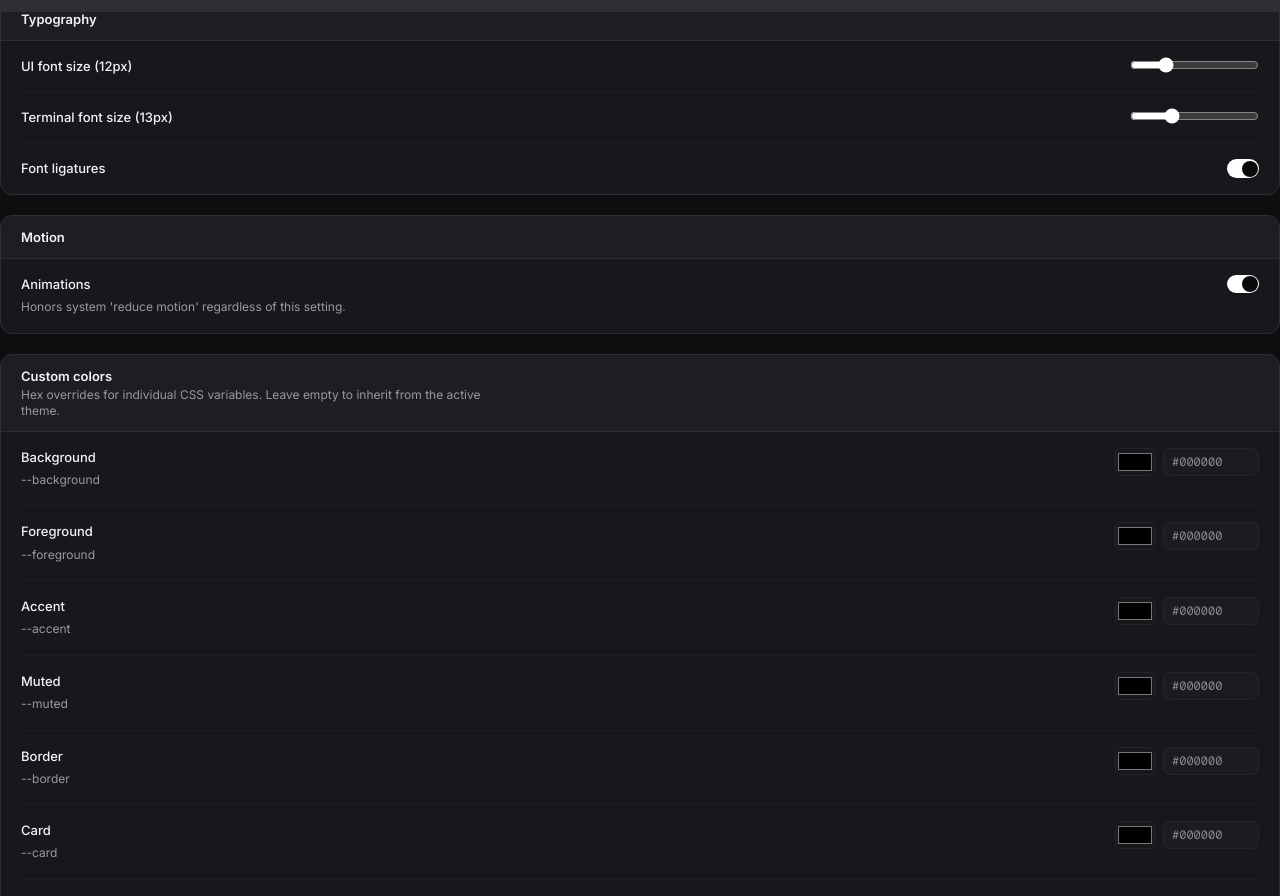
AppearanceSettings › per-color Reset button clears that color value
The image size is (1280, 896).
(page scrolled)
Set a color first so the inline Reset button appears
Type "#112233" into the colour field with test id "color-appearance.customColors.background" at coordinates (1135, 462), box [1115,448,1155,476]
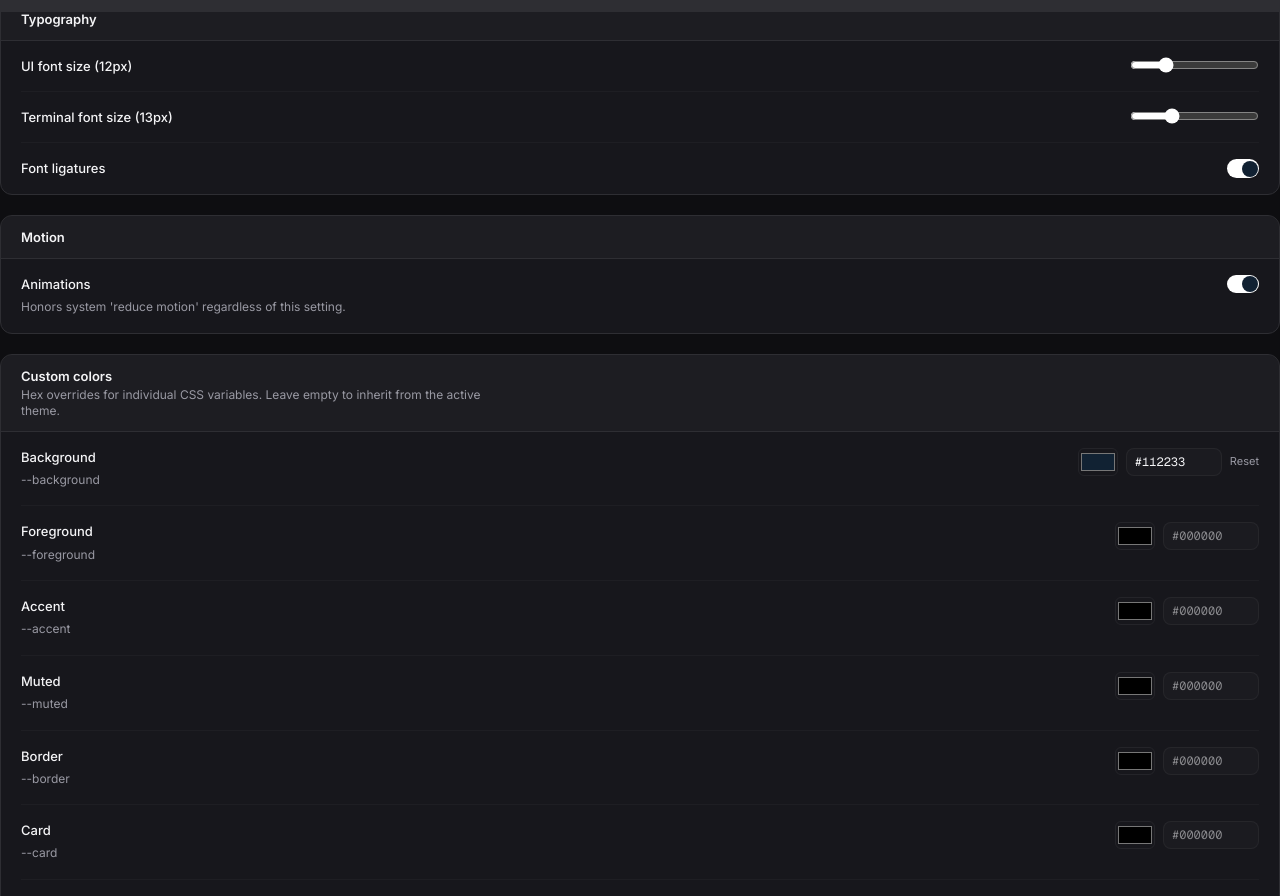
The inline "Reset" button should now be visible for that row
Click the button "Reset" at coordinates (1244, 462), box [1230,454,1259,470]
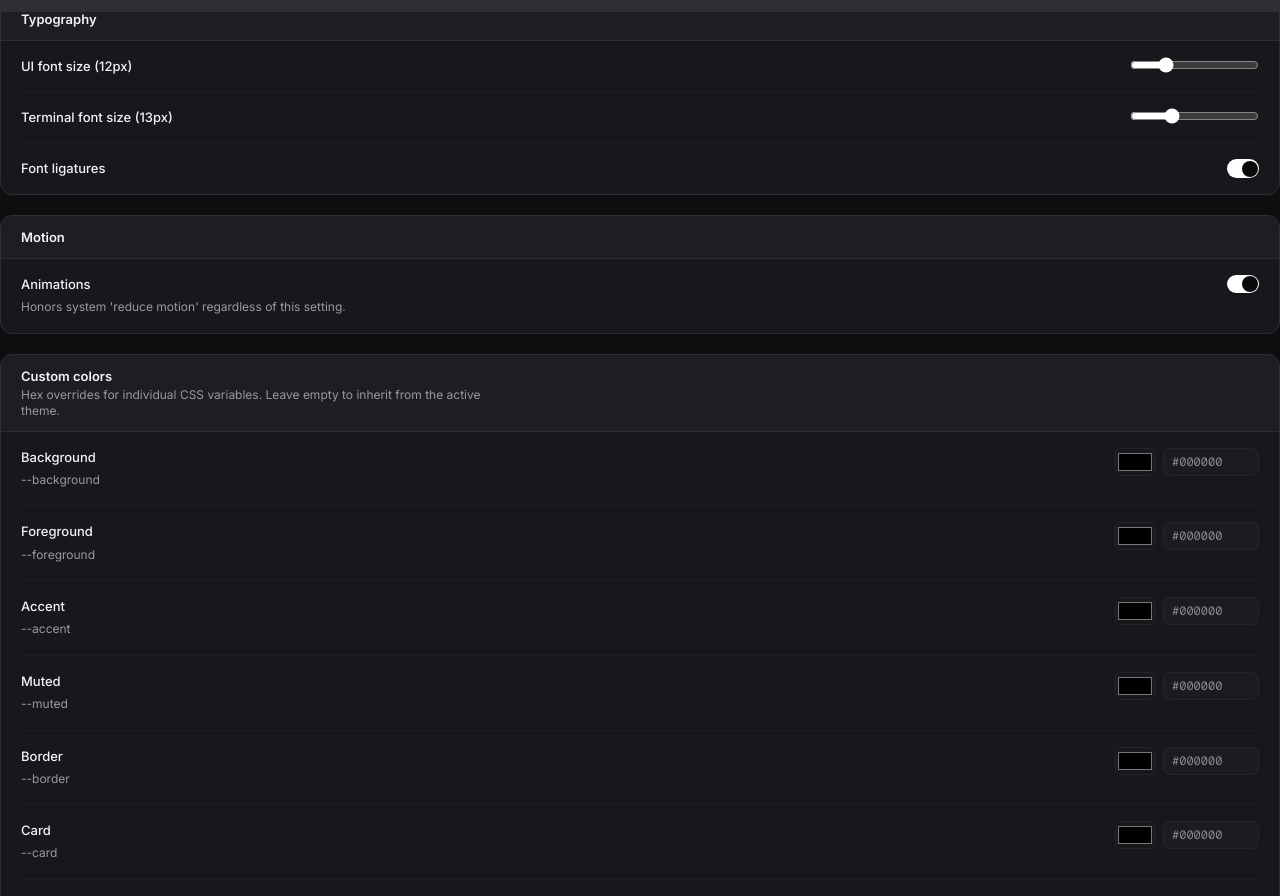
Expected: the colour field with test id "color-appearance.customColors.background" holds "#000000", [1115,448,1155,476]
